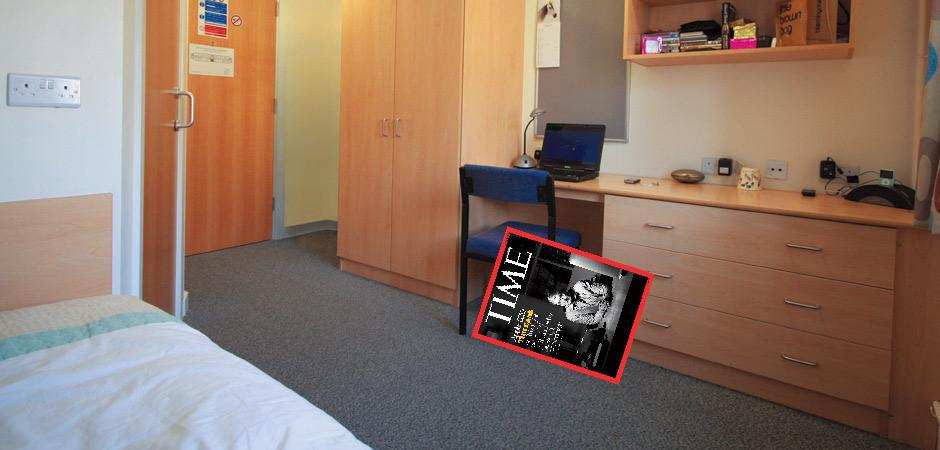times: (467, 222, 659, 383)
